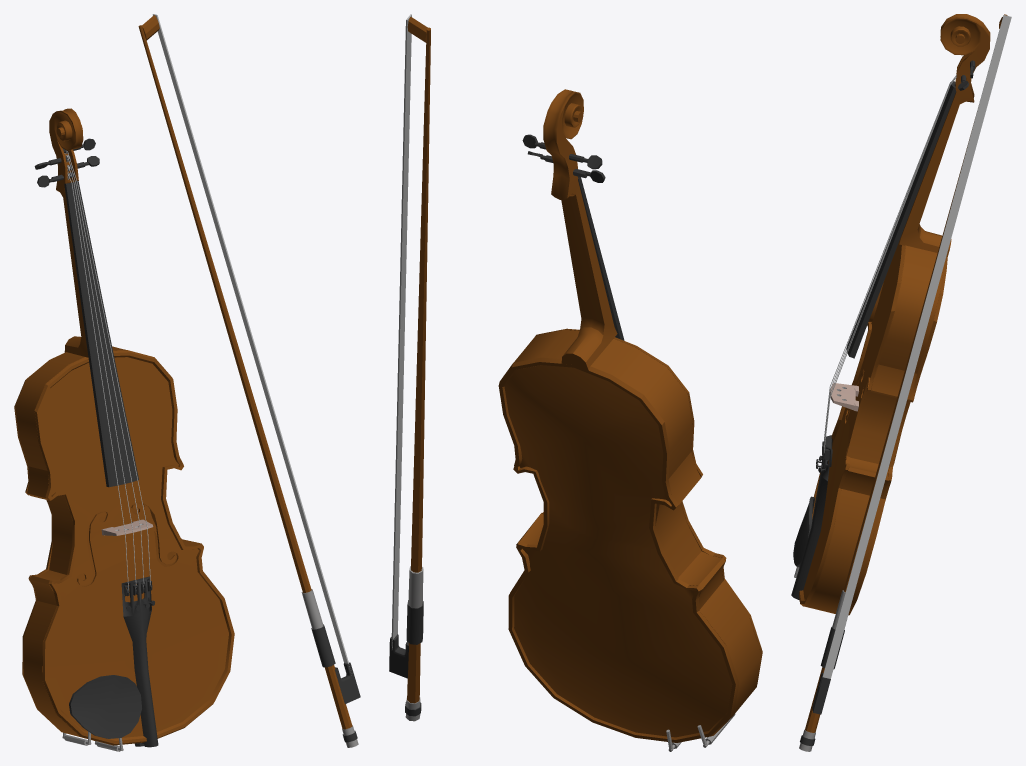
File: violin.glb
3 views of the same model, side by side, from view 1: azimuth 30°, elevation 25°; view 2: azimuth 150°, elevation 25°; view 3: azimuth 270°, elevation 25° (orthographic). The views are drawn at different scales.
Visible parts, largest first — view 1: Violin; view 2: Violin; view 3: Violin.
Boxes of the visible parts, bbox=[...] form: Violin: bbox=[14, 14, 360, 751]; Violin: bbox=[389, 14, 762, 751]; Violin: bbox=[791, 14, 1011, 751].
Bounding box in the file's own units: 0.6583 × 1.38 × 0.3991.
